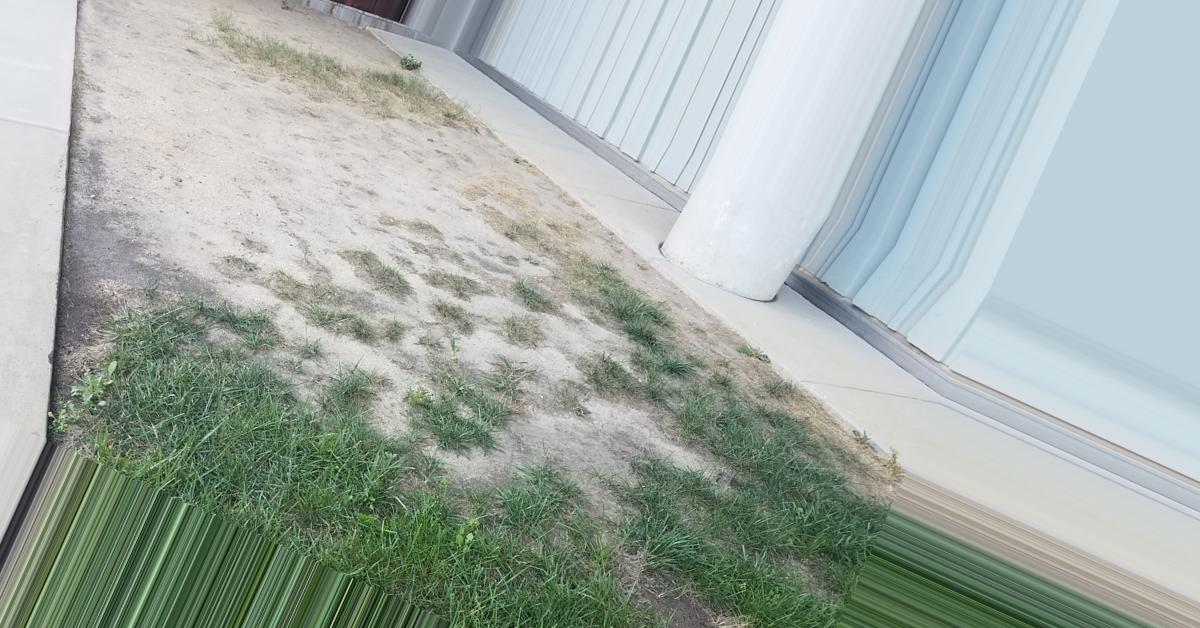patch: (100, 34, 320, 293), (329, 109, 475, 241), (563, 414, 625, 473), (554, 311, 607, 352), (477, 327, 504, 355)
